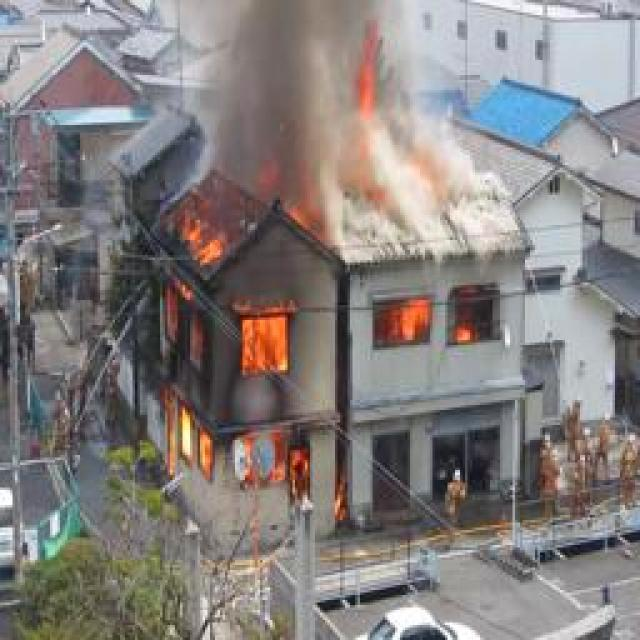Fire: (161, 197, 327, 555), (344, 38, 385, 217), (371, 305, 495, 349)
